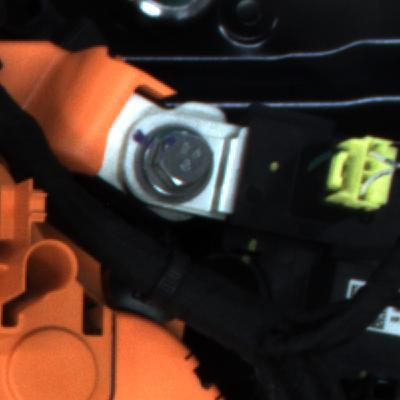nut_b: (127, 121, 222, 209)
